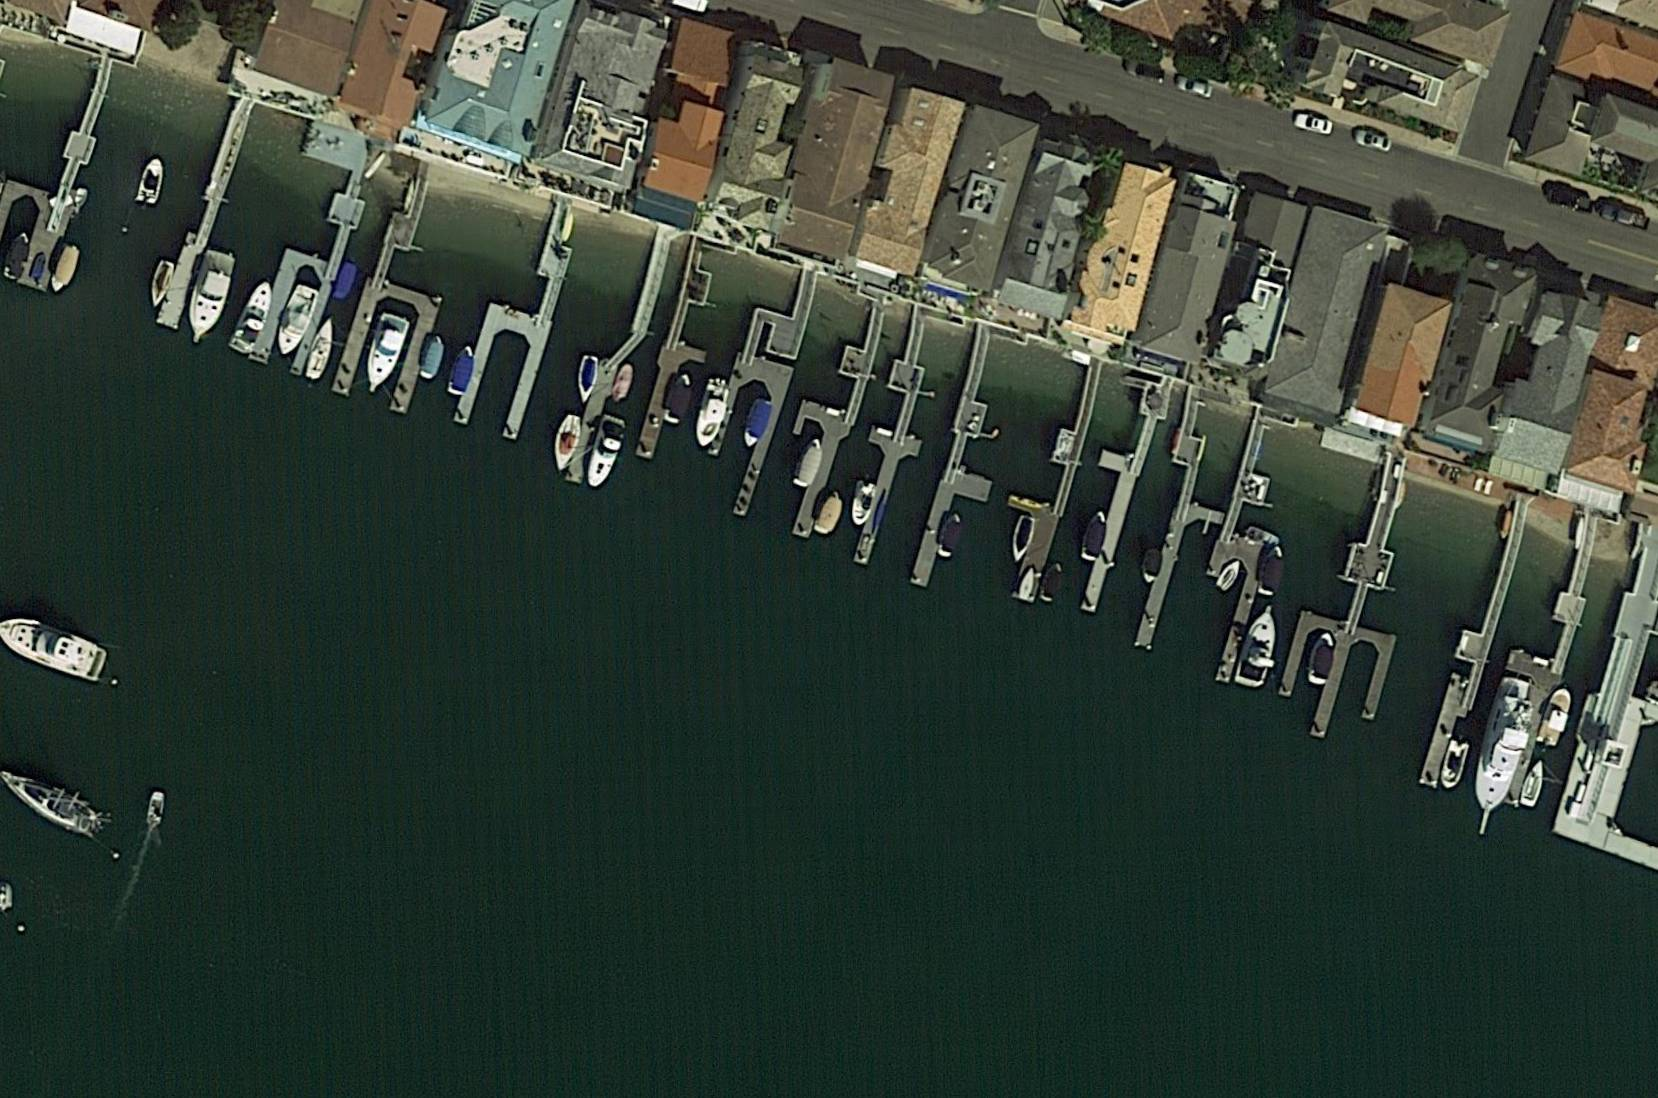harbor: (1268, 478, 1436, 757), (1466, 545, 1607, 811), (331, 178, 474, 415), (1550, 564, 1658, 870), (762, 305, 893, 543), (690, 281, 820, 520), (450, 216, 585, 442), (1173, 458, 1308, 684), (1118, 424, 1244, 663), (909, 350, 1028, 600), (0, 60, 127, 293), (562, 235, 673, 495), (835, 332, 952, 574), (982, 381, 1107, 607), (1420, 536, 1528, 794), (248, 161, 373, 376), (154, 98, 263, 335), (630, 252, 738, 468), (1058, 414, 1156, 616)
ship: (1455, 675, 1542, 846), (179, 248, 239, 349), (360, 310, 411, 399), (1235, 603, 1284, 690), (228, 277, 278, 357), (272, 282, 322, 358), (585, 414, 626, 493), (691, 381, 732, 453), (1535, 683, 1573, 750), (305, 314, 341, 384), (548, 412, 586, 474), (662, 373, 698, 428), (47, 244, 82, 298), (790, 435, 825, 490), (1437, 738, 1471, 793), (447, 342, 479, 397), (1520, 757, 1551, 812), (741, 397, 773, 451), (415, 333, 447, 384), (1308, 631, 1336, 687), (147, 259, 178, 310), (571, 354, 602, 406), (1009, 513, 1038, 566), (934, 511, 964, 561), (1081, 509, 1109, 562), (136, 157, 165, 207), (1214, 554, 1246, 596), (850, 482, 877, 529)
small vehicle: (1544, 183, 1596, 218), (1600, 202, 1653, 233), (1126, 58, 1168, 86), (1173, 74, 1214, 100), (1354, 127, 1395, 154), (1294, 112, 1334, 138)
